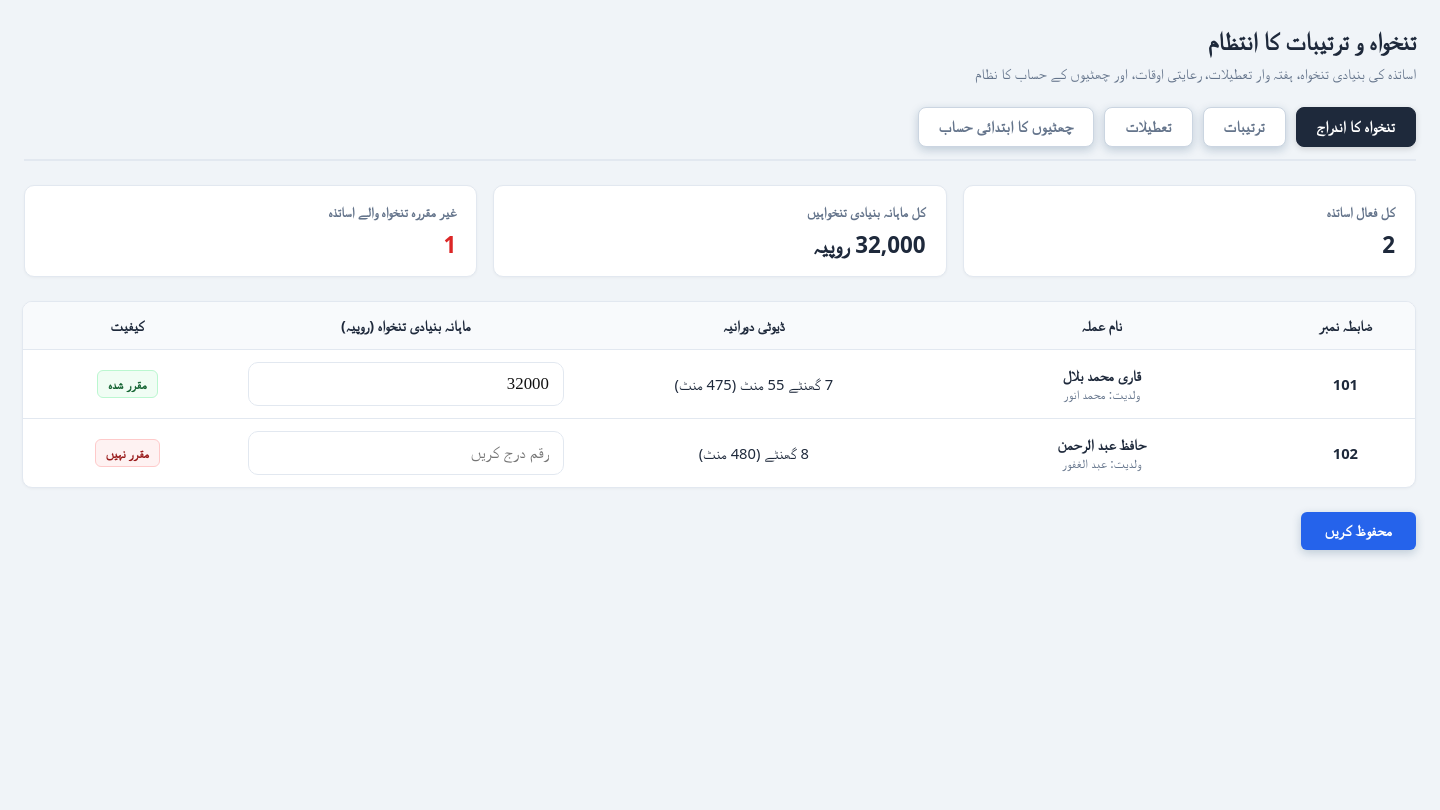
Test: Payroll UI & Access Control Tests › Payroll Component Functionality › handles failed salary save: shows error banner, keeps inputs visible, and shows NO success text
expect the text "قاری محمد بلال" is shown: met, box left=1063, top=365, right=1141, bottom=385
Replace the text in the number field named "ماہانہ تنخواہ برائے قاری محمد بلال" with "45000" at coordinates (406, 384), box left=248, top=362, right=564, bottom=406
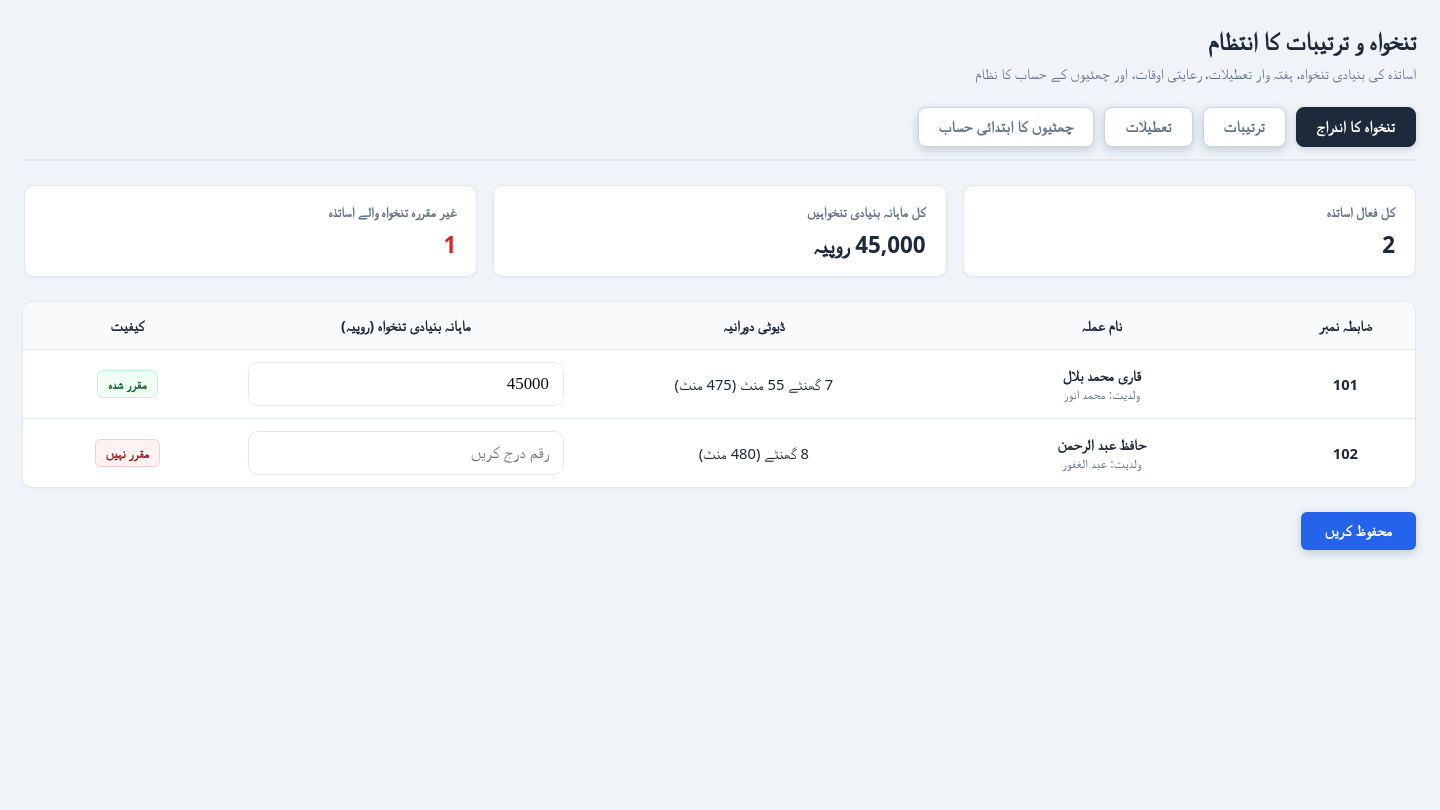
Click the button "محفوظ کریں".
click(1358, 531)  # box left=1301, top=512, right=1416, bottom=550
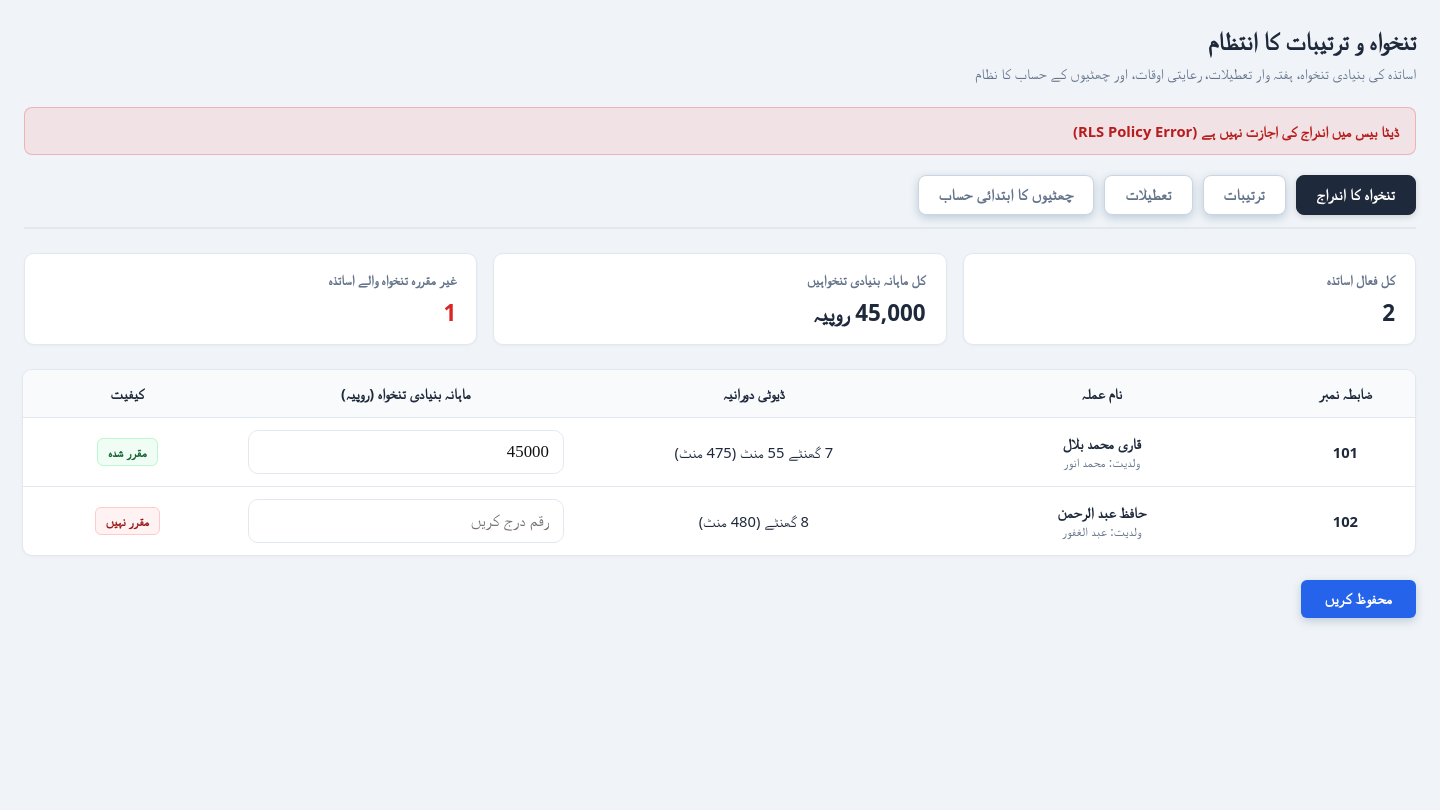
expect the message shows "ڈیٹا بیس میں اندراج کی اجازت نہیں ہے": met, box left=1073, top=121, right=1399, bottom=141
